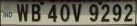character: (16, 3, 28, 22), (47, 4, 57, 23), (88, 3, 98, 22), (59, 3, 69, 21), (71, 3, 81, 21), (100, 3, 109, 22), (112, 3, 121, 22), (123, 3, 132, 22), (31, 3, 40, 21)
